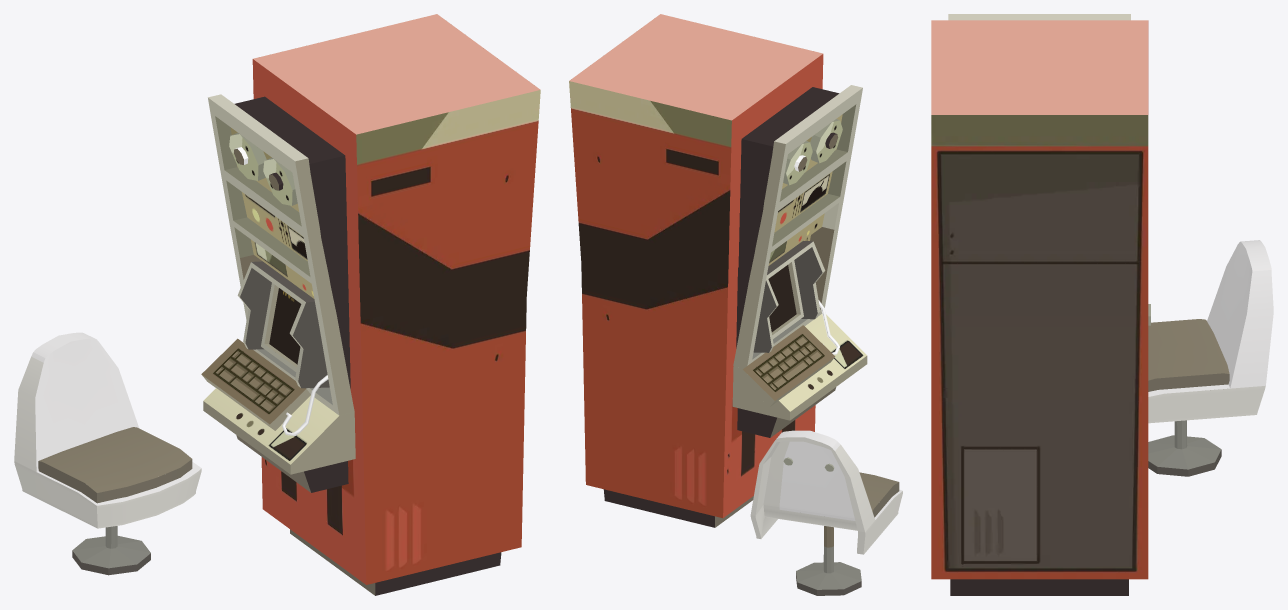
Rendered from comp-transformed.glb.
3 views of the same model, side by side, from view 1: azimuth 30°, elevation 25°; view 2: azimuth 150°, elevation 25°; view 3: azimuth 270°, elevation 25° (orthographic). The views are drawn at different scales.
Parts seen in each view (by area): view 1: Object_16, Object_10, Object_20, Object_23, Object_24, Object_21, Object_22, Object_11, Object_15, Object_7, Object_6, Object_14 (+7 smaller); view 2: Object_16, Object_10, Object_23, Object_24, Object_21, Object_22, Object_20, Object_7, Object_15, Object_6, Object_14, Object_17 (+8 smaller); view 3: Object_16, Object_10, Object_20, Object_11, Object_21, Object_23, Object_18, Object_9, Object_19, Object_15.
Boxes of the visible parts, <box> form: Object_16: <box>252,59,540,584</box>; Object_10: <box>253,14,540,134</box>; Object_20: <box>31,332,201,505</box>; Object_23: <box>235,96,501,595</box>; Object_24: <box>201,158,355,474</box>; Object_21: <box>14,356,201,528</box>; Object_22: <box>208,98,339,415</box>; Object_11: <box>39,427,191,492</box>; Object_15: <box>72,261,329,575</box>; Object_7: <box>201,338,305,424</box>; Object_6: <box>203,388,338,464</box>; Object_14: <box>215,116,310,276</box>; Object_16: <box>569,54,823,518</box>; Object_10: <box>569,14,822,120</box>; Object_23: <box>603,87,839,527</box>; Object_24: <box>732,141,867,420</box>; Object_21: <box>750,437,902,554</box>; Object_22: <box>747,88,862,365</box>; Object_20: <box>776,430,902,520</box>; Object_7: <box>743,325,835,400</box>; Object_15: <box>753,241,861,595</box>; Object_6: <box>779,314,866,411</box>; Object_14: <box>772,104,856,246</box>; Object_17: <box>768,114,842,265</box>; Object_16: <box>931,20,1148,579</box>; Object_10: <box>931,20,1147,114</box>; Object_20: <box>1148,240,1273,396</box>; Object_11: <box>1148,319,1229,380</box>; Object_21: <box>1148,386,1265,423</box>; Object_23: <box>950,579,1128,595</box>; Object_18: <box>1148,420,1221,469</box>; Object_9: <box>948,14,1130,20</box>; Object_19: <box>1148,373,1229,391</box>; Object_15: <box>1148,450,1221,476</box>.
Size of the model in its own units: 6.32 by 7.66 by 4.73.
Materials: 23 (6 with a texture image).
